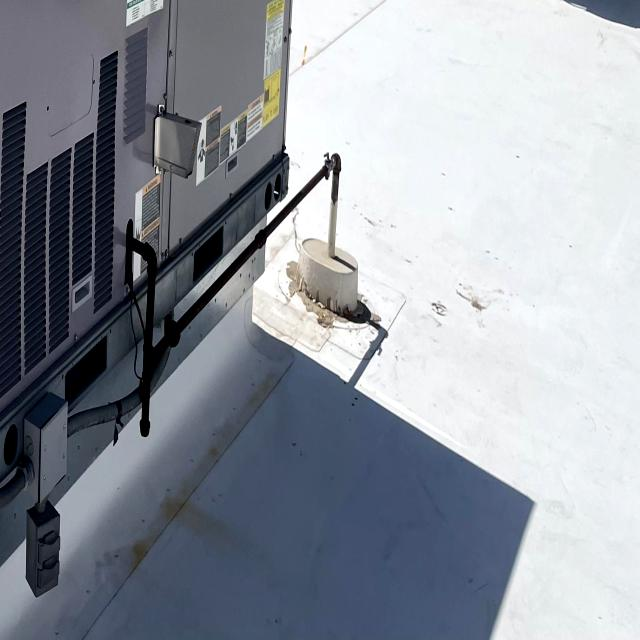RTU: (0, 0, 314, 640), (396, 0, 626, 2)
